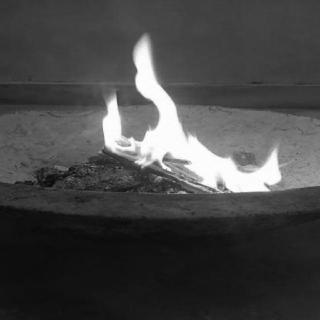Fire: (80, 29, 289, 200)
